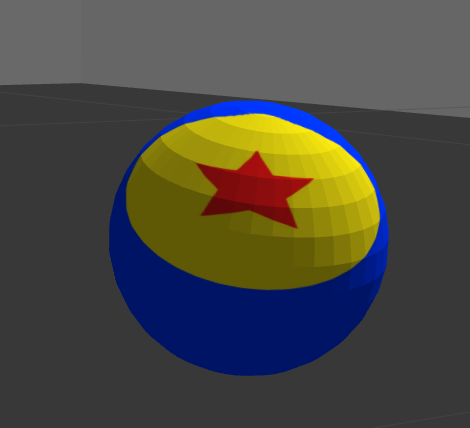toy story ball: (110, 99, 389, 376)
